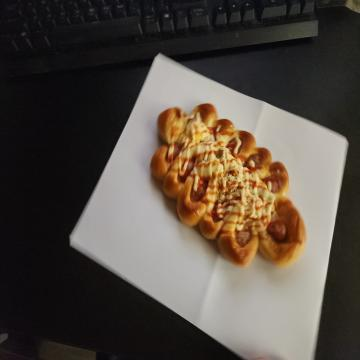pizza_bread: (152, 102, 306, 265)
